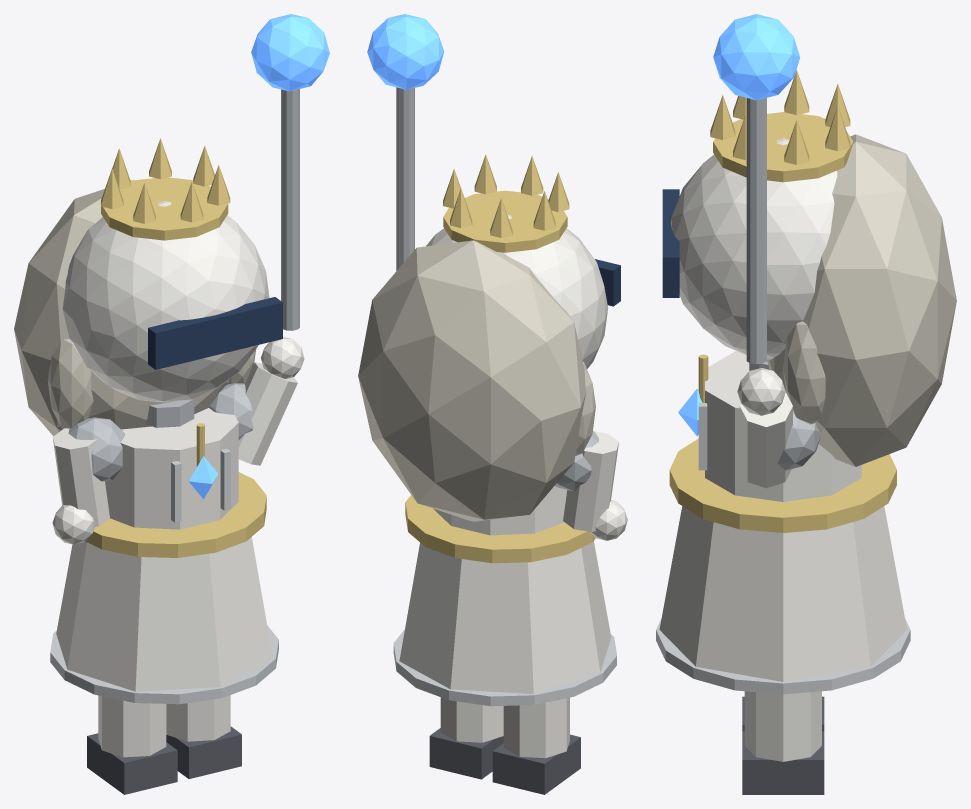
Rendered from queen.glb.
The picture shows the model from 3 angles, left to right: view 1: azimuth 30°, elevation 25°; view 2: azimuth 150°, elevation 25°; view 3: azimuth 270°, elevation 25°; orthographic projection. The views are drawn at different scales.
Parts seen in each view (by area): view 1: Gown_Lower, Head, Hair_Base, Torso_Bodice, Waist_Sash, Face_Opening, Crown_Ring, Scepter_Gem, Scepter, Gown_Hem_Silver, Leg_L, Arm_L (+18 smaller); view 2: Hair_Base, Gown_Lower, Head, Waist_Sash, Crown_Ring, Scepter_Gem, Gown_Hem_Silver, Leg_L, Scepter, Arm_L, Foot_L, Torso_Bodice (+12 smaller); view 3: Hair_Base, Gown_Lower, Head, Waist_Sash, Torso_Bodice, Scepter_Gem, Scepter, Leg_R, Crown_Ring, Gown_Hem_Silver, Arm_R, Foot_R (+10 smaller).
Part boxes in pixels (x1,y1,x2,y2): Gown_Lower: (56, 537, 272, 691); Head: (62, 201, 269, 402); Hair_Base: (14, 179, 228, 436); Torso_Bodice: (105, 408, 238, 529); Waist_Sash: (86, 472, 266, 557); Face_Opening: (148, 297, 282, 369); Crown_Ring: (101, 177, 228, 240); Scepter_Gem: (251, 14, 329, 91); Scepter: (281, 89, 299, 330); Gown_Hem_Silver: (50, 625, 278, 704); Leg_L: (98, 695, 166, 757); Arm_L: (52, 428, 109, 526); Hair_Base: (358, 240, 586, 521); Gown_Lower: (399, 541, 611, 693); Head: (426, 214, 607, 368); Waist_Sash: (405, 495, 595, 563); Crown_Ring: (443, 190, 567, 252); Scepter_Gem: (367, 14, 444, 89); Gown_Hem_Silver: (393, 629, 616, 706); Leg_L: (503, 697, 569, 758); Scepter: (396, 87, 414, 270); Arm_L: (563, 431, 618, 531); Foot_L: (492, 734, 580, 794); Torso_Bodice: (433, 485, 567, 535); Hair_Base: (767, 134, 956, 466); Gown_Lower: (659, 506, 906, 681); Head: (670, 138, 837, 359); Waist_Sash: (669, 438, 896, 532); Torso_Bodice: (705, 351, 861, 501); Scepter_Gem: (713, 14, 800, 100); Scepter: (746, 98, 766, 364); Leg_R: (744, 691, 821, 761); Crown_Ring: (713, 112, 853, 182); Gown_Hem_Silver: (656, 618, 910, 694); Arm_R: (739, 392, 792, 488); Foot_R: (742, 731, 824, 794).
Bounding box in the file's own units: 0.695 × 1.84 × 0.6218.
